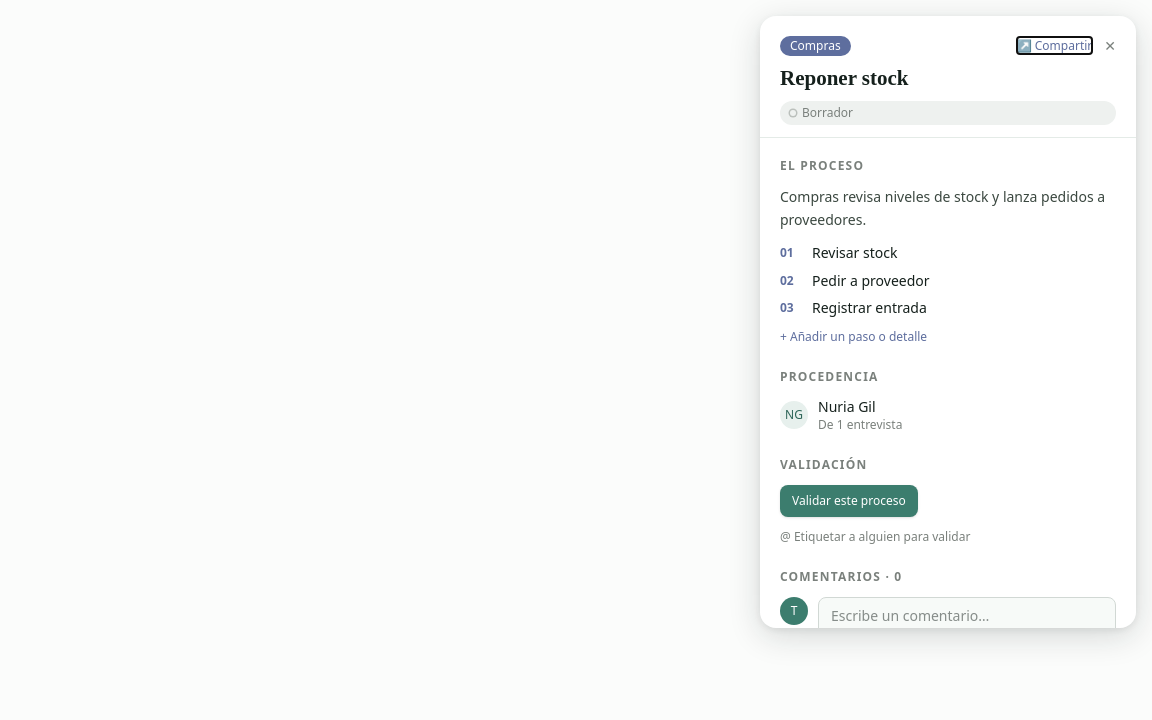
Test: MentionPicker › opens mention picker when tag button is clicked
What coordinates should you click on to do the following:
click the button "@ Etiquetar a alguien para validar"
I would click on:
 (875, 537)
Its box is x1=780 y1=529 x2=970 y2=545.
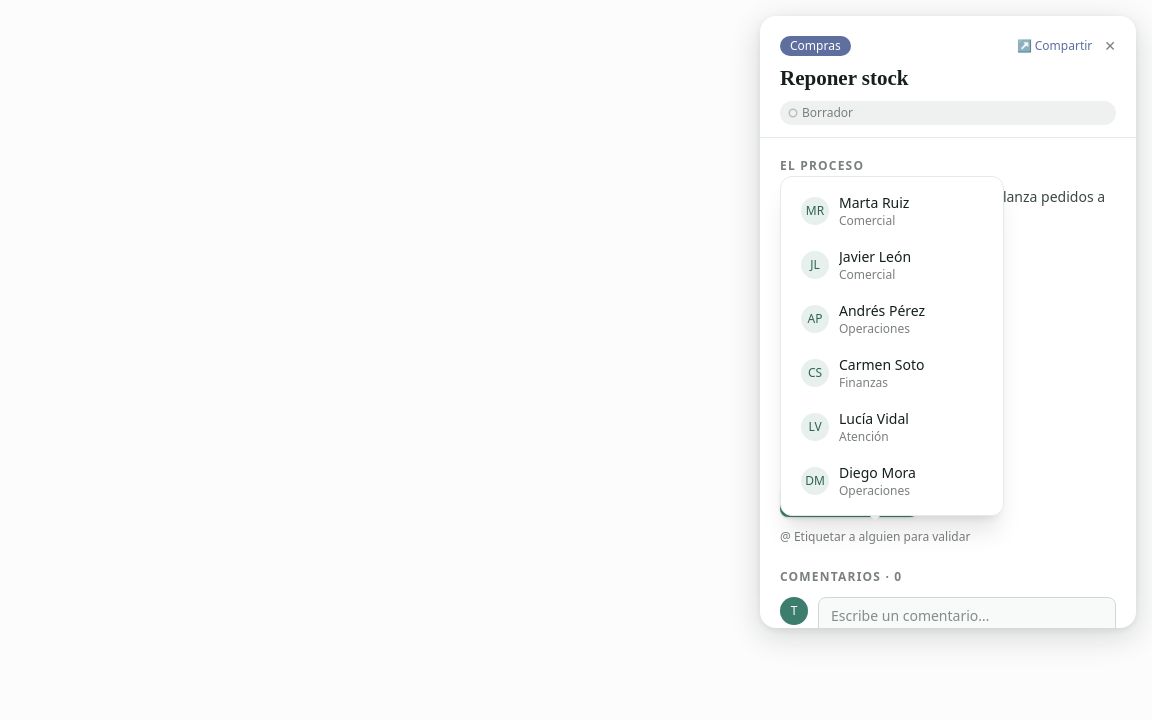
Expected: the text "Marta Ruiz" is shown, x1=839 y1=193 x2=909 y2=213
